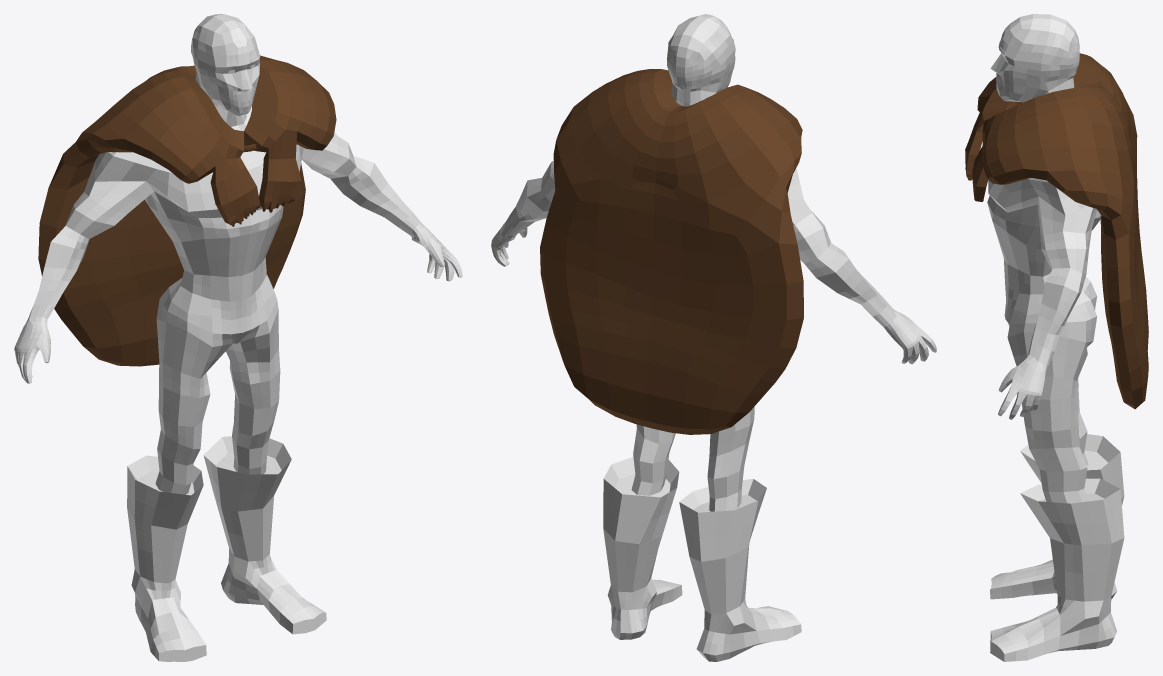
The model's file is Lumberjack_WIth_Animations_2.fbx.
3 views of the same model, side by side, from view 1: azimuth 30°, elevation 25°; view 2: azimuth 150°, elevation 25°; view 3: azimuth 270°, elevation 25° (orthographic).
Visible parts, largest first — view 1: Body; view 2: Body; view 3: Body.
Part boxes in pixels (x1,y1,x2,y2): Body: [14, 14, 462, 661]; Body: [491, 14, 936, 661]; Body: [965, 14, 1148, 661].
Size of the model in its own units: 261 by 350 by 95.7.
